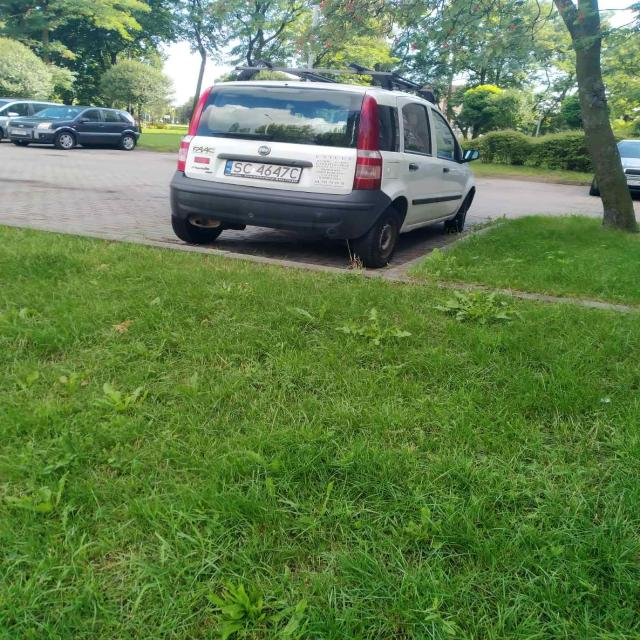pl_license_plate: (224, 160, 301, 179)
